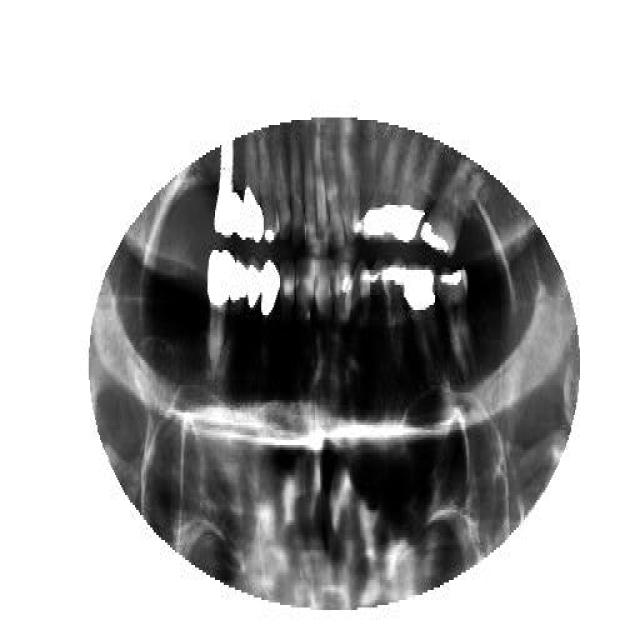Fillings: (422, 160, 483, 265), (394, 138, 440, 248), (400, 260, 435, 398), (432, 262, 470, 370), (205, 247, 233, 375), (365, 135, 395, 235), (238, 135, 262, 243), (382, 265, 408, 353), (258, 135, 278, 247), (258, 260, 282, 325), (228, 260, 248, 322), (244, 260, 261, 325)
Implant: (209, 140, 240, 235)
